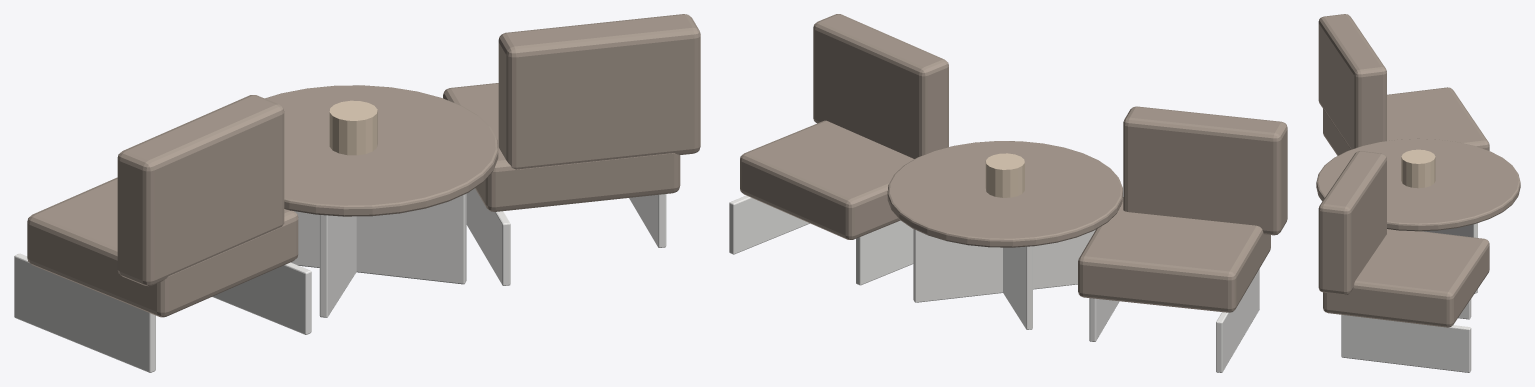
The model's file is modern_office_asset_library_board_32.glb.
The picture shows the model from 3 angles, left to right: view 1: azimuth 30°, elevation 25°; view 2: azimuth 150°, elevation 25°; view 3: azimuth 270°, elevation 25°; orthographic projection. The views are drawn at different scales.
Parts seen in each view (by area): view 1: Cylinder; view 2: Cylinder; view 3: Cylinder.
Boxes of the visible parts, x1,y1,x2,y2 form: Cylinder: [14, 14, 700, 372]; Cylinder: [729, 14, 1287, 372]; Cylinder: [1316, 14, 1520, 372].
Bounding box in the file's own units: 2.03 × 0.72 × 0.84.
